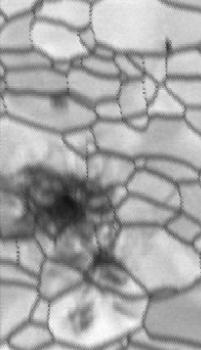good_void: (0, 156, 131, 294), (60, 291, 98, 331), (48, 83, 77, 117), (110, 300, 139, 320), (160, 30, 176, 60)
